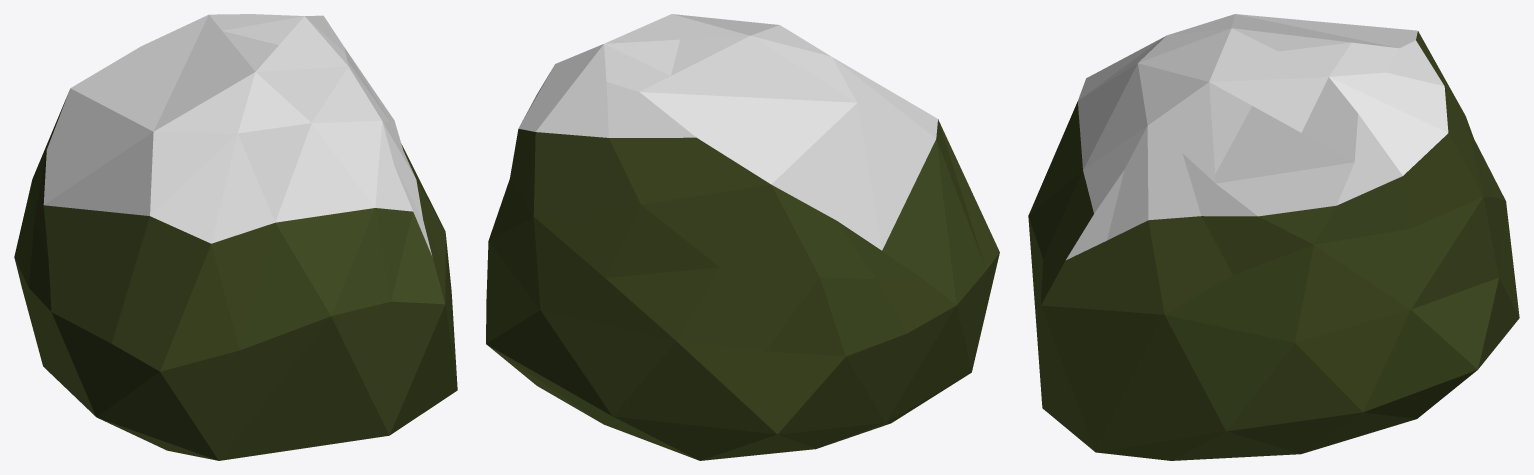
The model's file is bushWithSnow.glb.
3 views of the same model, side by side, from view 1: azimuth 30°, elevation 25°; view 2: azimuth 150°, elevation 25°; view 3: azimuth 270°, elevation 25° (orthographic). The views are drawn at different scales.
Parts seen in each view (by area): view 1: BushWithSnow; view 2: BushWithSnow; view 3: BushWithSnow.
Boxes of the visible parts, box(x1,y1,x2,y2) form: BushWithSnow: box(14, 14, 457, 460); BushWithSnow: box(486, 14, 999, 460); BushWithSnow: box(1028, 14, 1519, 460).
Bounding box in the file's own units: 2.38 × 1.87 × 2.3.
1 material, 1 textured.
